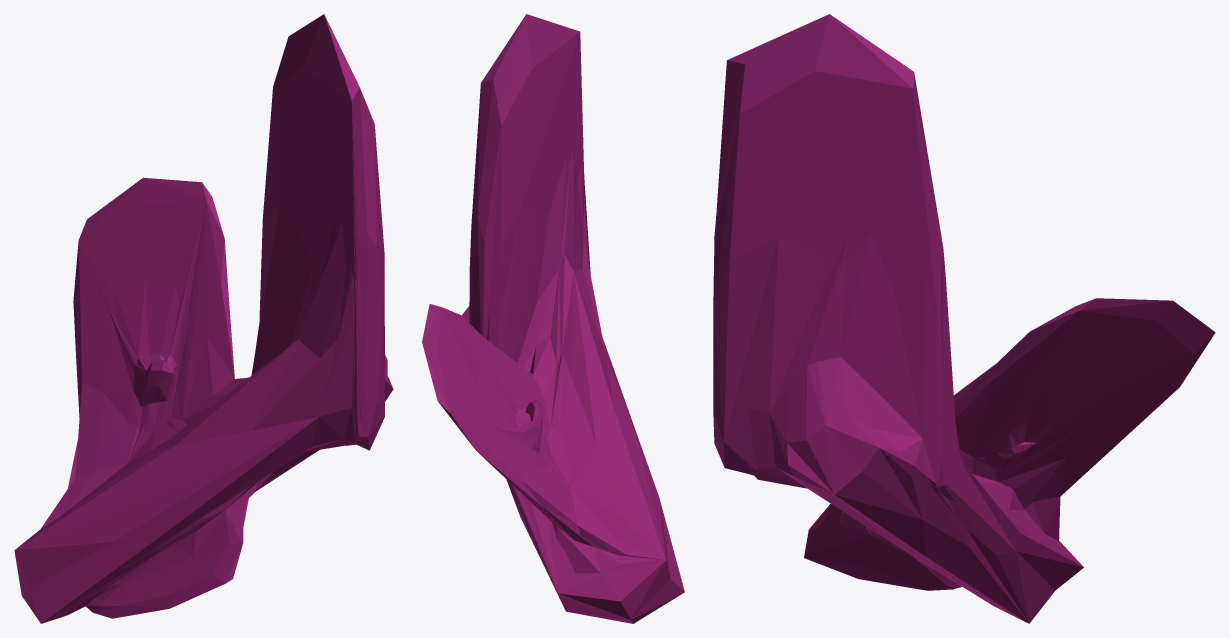
The picture shows the model from 3 angles, left to right: view 1: azimuth 30°, elevation 25°; view 2: azimuth 150°, elevation 25°; view 3: azimuth 270°, elevation 25°; orthographic projection. The views are drawn at different scales.
Parts seen in each view (by area): view 1: 431_Cube.1751; view 2: 431_Cube.1751; view 3: 431_Cube.1751.
Boxes of the visible parts, left/top/right/bottom form: 431_Cube.1751: left=14, top=14, right=393, bottom=623; 431_Cube.1751: left=422, top=14, right=684, bottom=623; 431_Cube.1751: left=713, top=14, right=1215, bottom=623.
Size of the model in its own units: 9.11 by 17.86 by 11.77.
